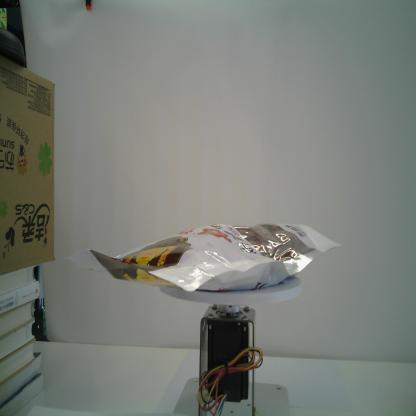Dried Food: (89, 218, 344, 296)
